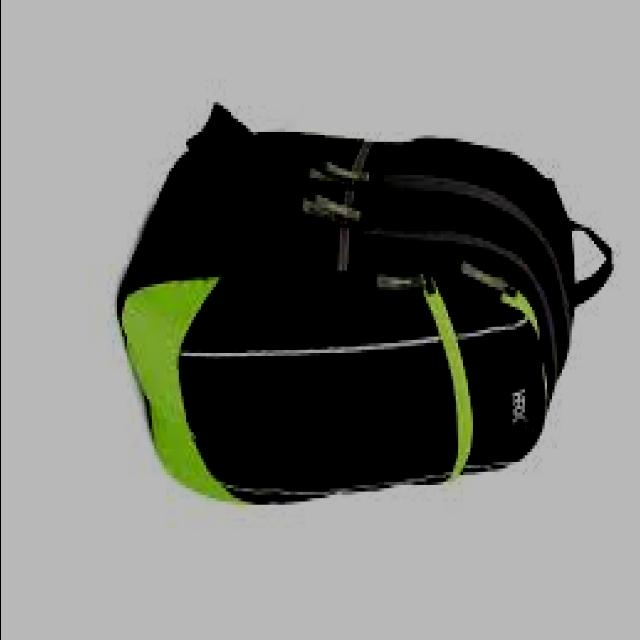backpack: (117, 104, 616, 506)
